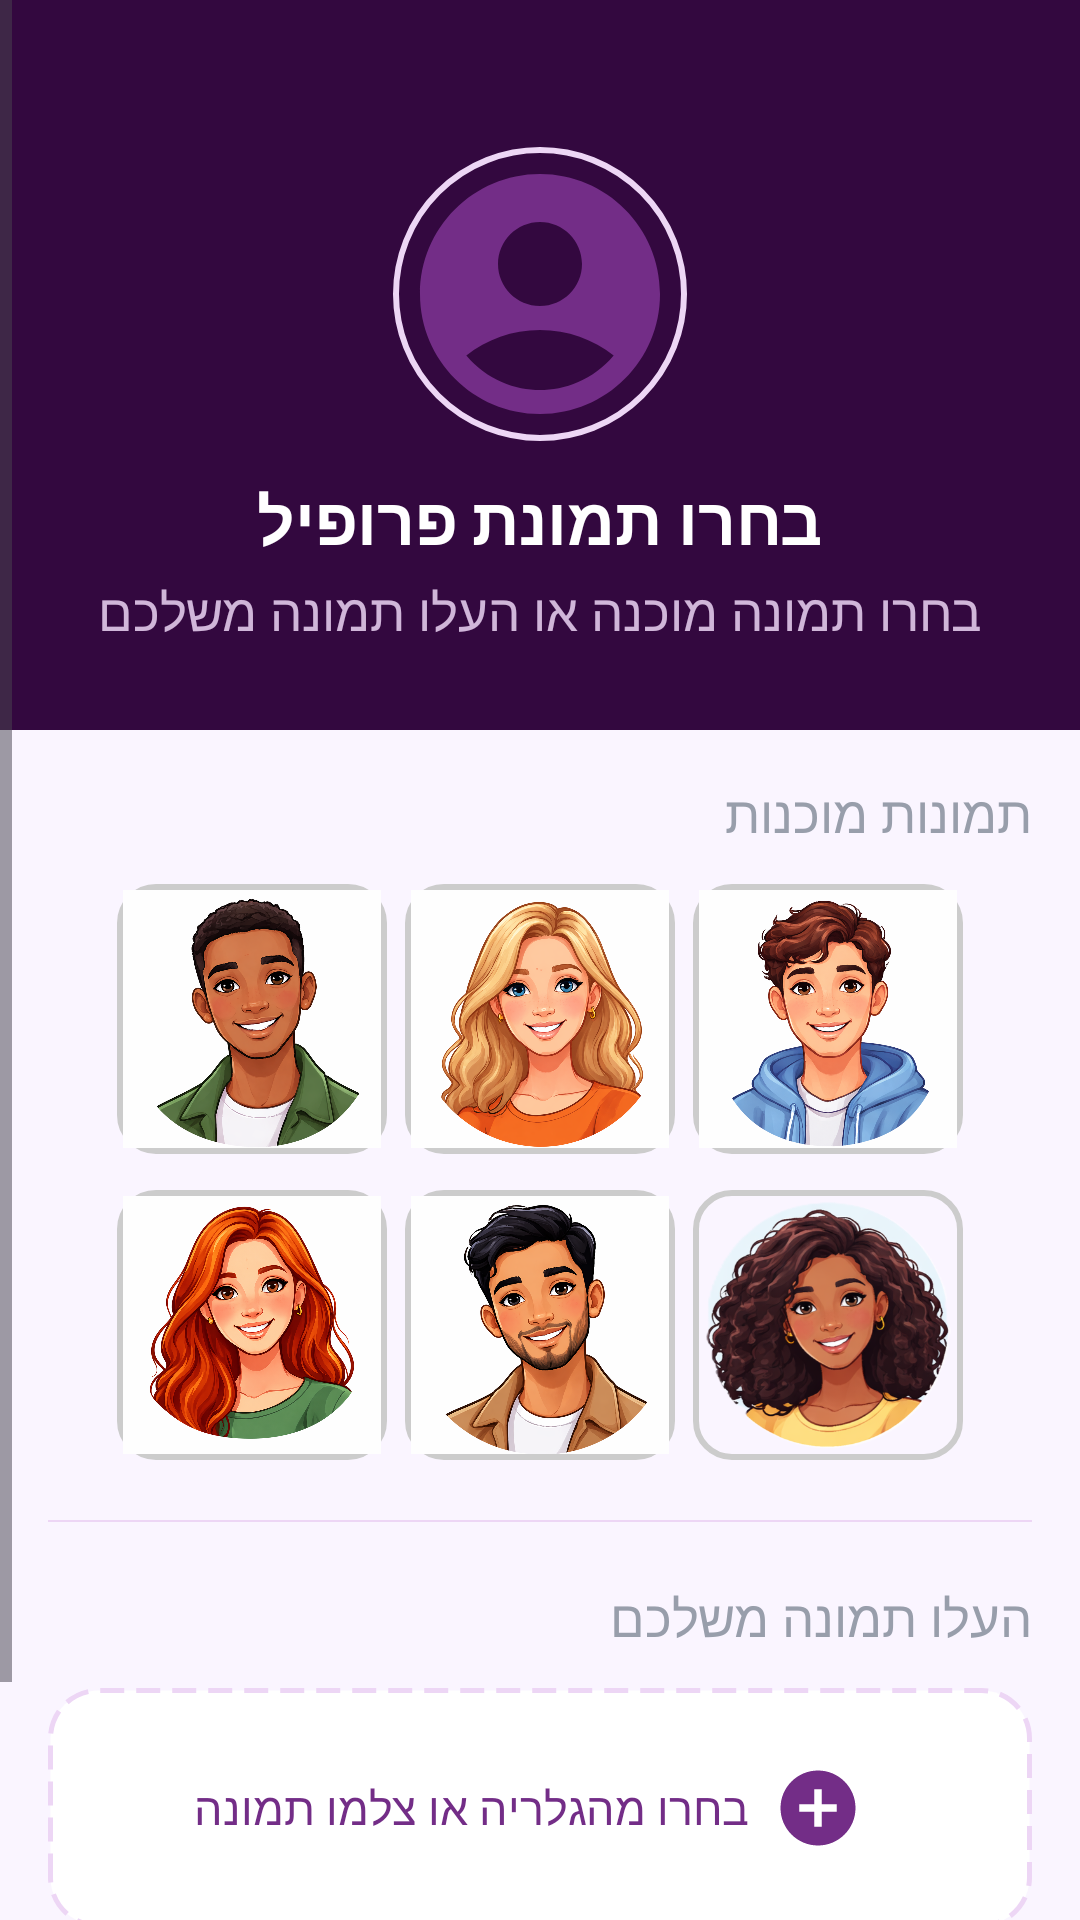

Where icons sit on this 1080 x 1920 app screen, as (x1, y1, x2, y2):
add circle: (780, 1770, 856, 1846)
